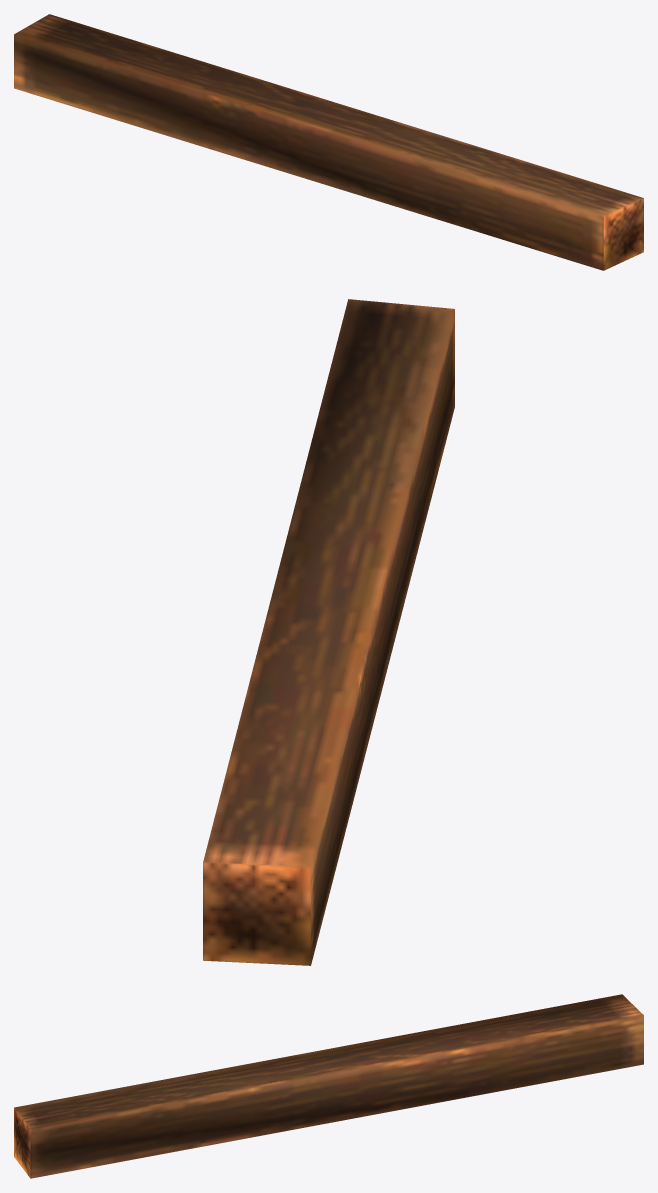
File: SWORDLIGHT20_JAILBRACE57.fbx
The picture shows the model from 3 angles, top to bottom: view 1: azimuth 30°, elevation 25°; view 2: azimuth 150°, elevation 25°; view 3: azimuth 270°, elevation 25°; orthographic projection. The views are drawn at different scales.
Visible parts, largest first — view 1: SWORDLIGHT20_JAILBRACE57; view 2: SWORDLIGHT20_JAILBRACE57; view 3: SWORDLIGHT20_JAILBRACE57.
Boxes of the visible parts, x1,y1,x2,y2 form: SWORDLIGHT20_JAILBRACE57: [14, 14, 643, 270]; SWORDLIGHT20_JAILBRACE57: [203, 299, 454, 965]; SWORDLIGHT20_JAILBRACE57: [14, 994, 643, 1178].
Size of the model in its own units: 23581 by 4000 by 46411.
1 material, 1 textured.
